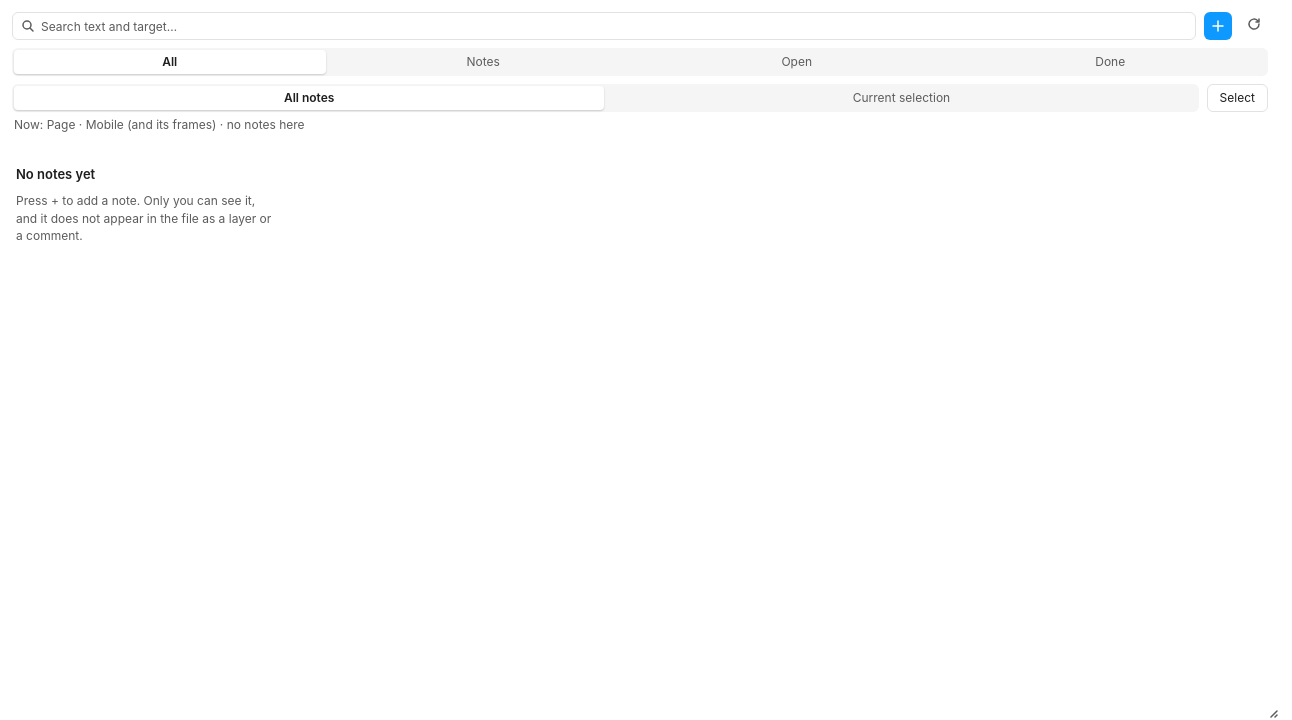
Test case: refreshing when the window gets the focus back › corrects the "now" line, which a rename or a page move changes without any selection event
The image size is (1292, 720).
Expected: the button named "Add note" is shown, [1204,12,1232,40]
What coordinates should you click on to do the following:
click the button named "Refresh the list"
I would click on:
 (1254, 26)
Its box is [1240,12,1268,40].
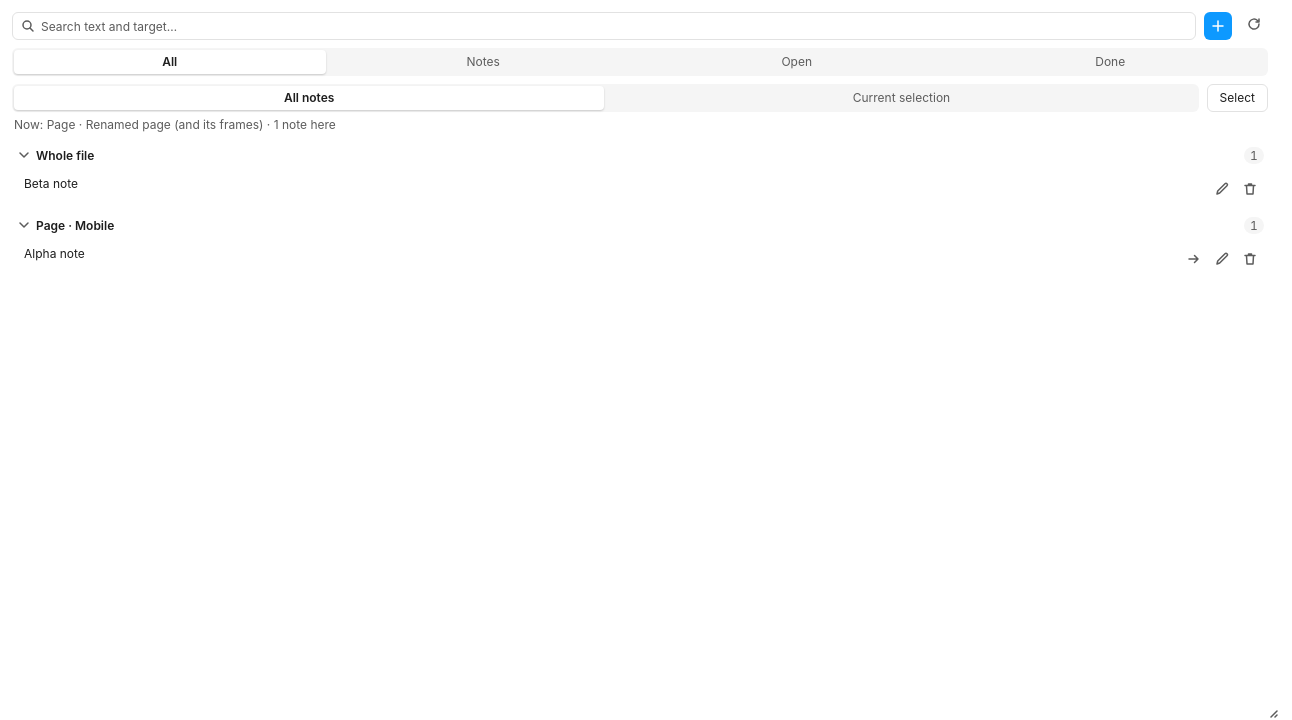
Result: the text "Alpha note" is shown at [24,246,85,261]
Result: the text "Now: Page · Renamed page (and its frames) · 1 note here" is shown at [14,117,336,132]
